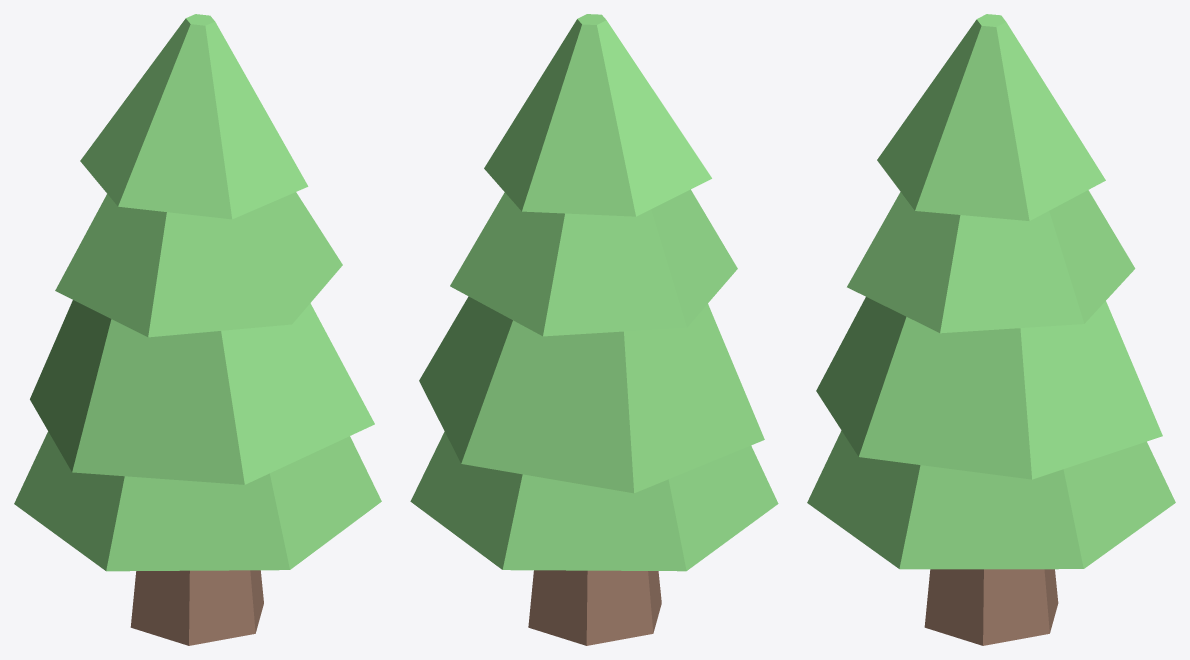
File: tree_team.fbx
3 views of the same model, side by side, from view 1: azimuth 30°, elevation 25°; view 2: azimuth 150°, elevation 25°; view 3: azimuth 270°, elevation 25° (orthographic).
Visible parts, largest first — view 1: Cylinder.002, Cylinder.001, Cylinder.003, Cylinder.004, Cylinder; view 2: Cylinder.002, Cylinder.001, Cylinder.003, Cylinder.004, Cylinder; view 3: Cylinder.002, Cylinder.001, Cylinder.003, Cylinder.004, Cylinder.
Boxes of the visible parts, box(x1,y1,x2,y2) form: Cylinder.002: box(30, 300, 374, 484); Cylinder.001: box(14, 431, 381, 571); Cylinder.003: box(55, 192, 342, 337); Cylinder.004: box(80, 14, 308, 219); Cylinder: box(130, 570, 263, 645); Cylinder.002: box(419, 296, 764, 493); Cylinder.001: box(410, 431, 778, 571); Cylinder.003: box(450, 189, 737, 336); Cylinder.004: box(484, 14, 711, 216); Cylinder: box(528, 570, 661, 645); Cylinder.002: box(816, 297, 1162, 479); Cylinder.001: box(807, 430, 1175, 569); Cylinder.003: box(847, 190, 1135, 333); Cylinder.004: box(877, 14, 1105, 220); Cylinder: box(924, 569, 1058, 645).
Bounding box in the file's own units: 203 × 382 × 214.
